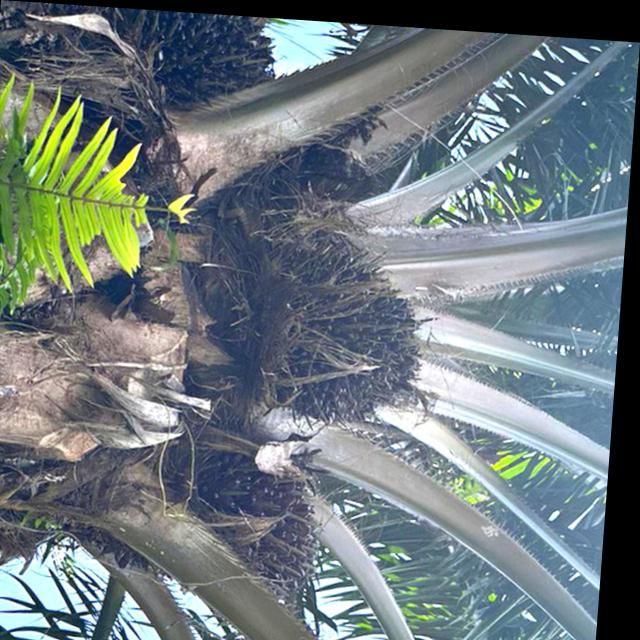unripe: (234, 218, 446, 430), (174, 442, 343, 603), (93, 8, 286, 136)
